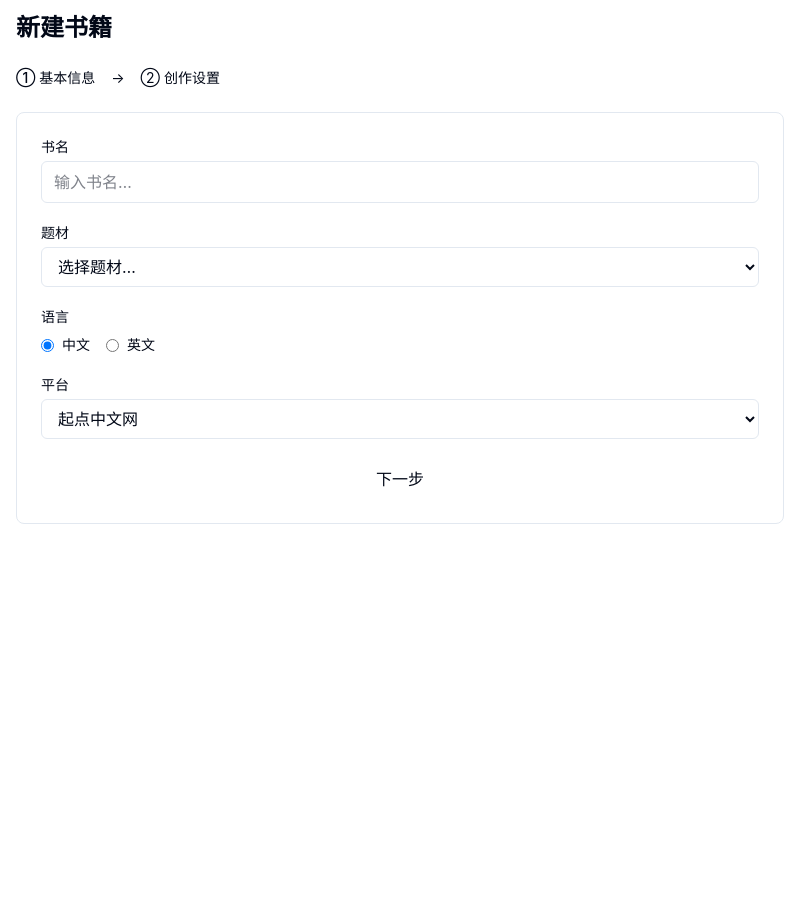
Scenario: BookCreate Page › returns to step 1 when clicking back
In the field with placeholder "输入书名…": (400, 182) 41,161 -> 759,203, type "测试小说"
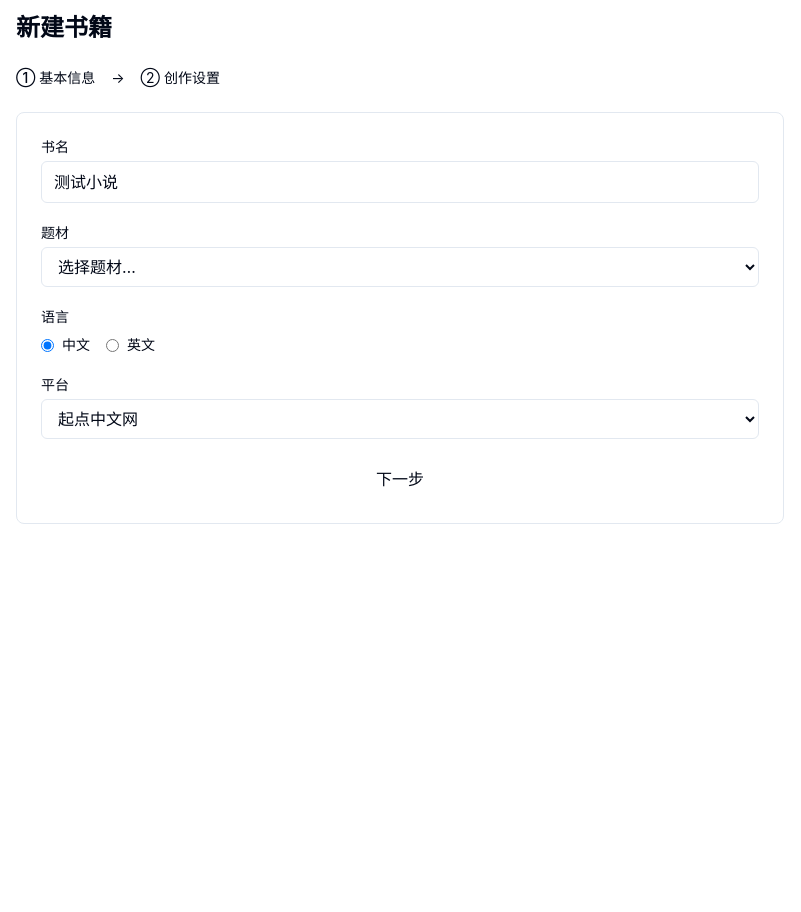
Select "科幻" in the dropdown labelled "题材": (400, 267) 41,247 -> 759,287
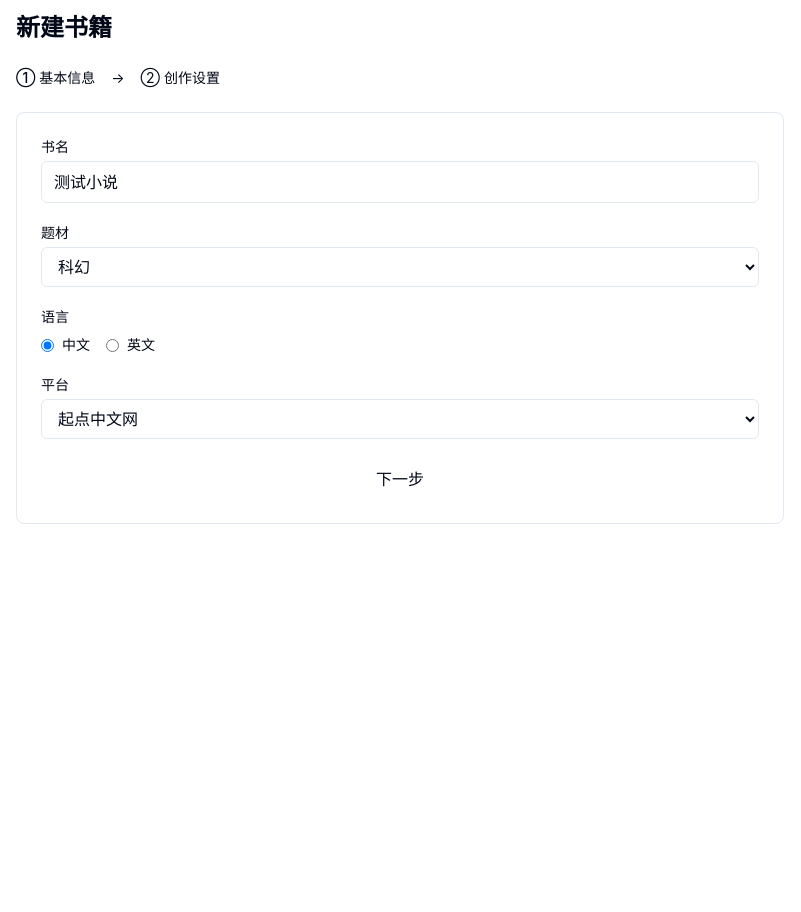
Click the button "下一步": (400, 479) 41,459 -> 759,499
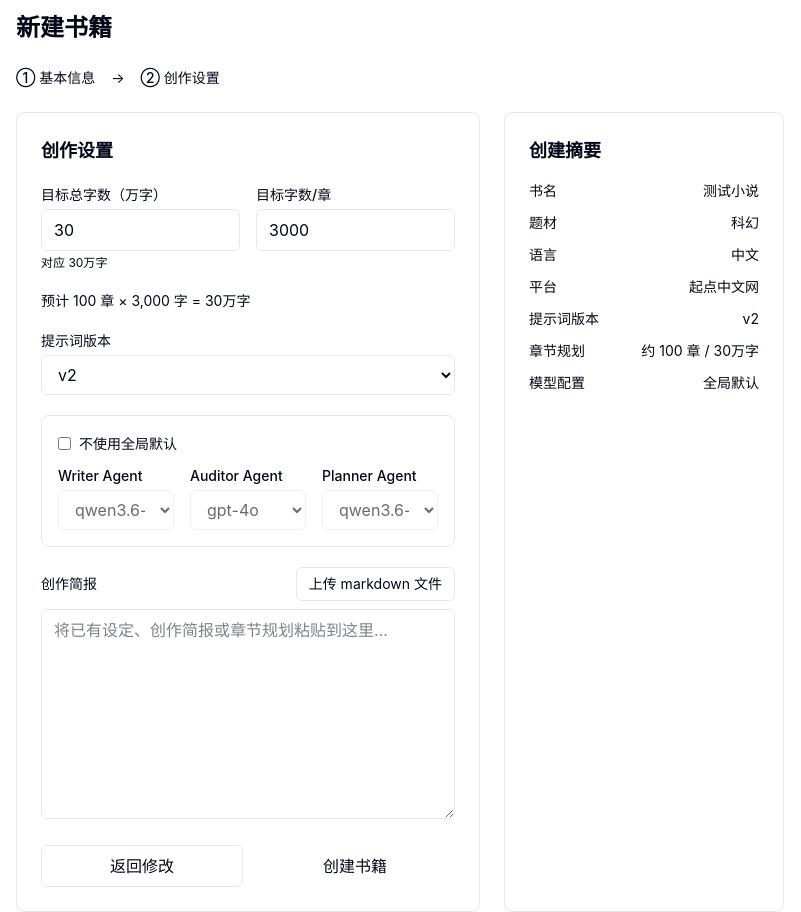
Click the button "返回修改": (142, 866) 41,844 -> 243,886
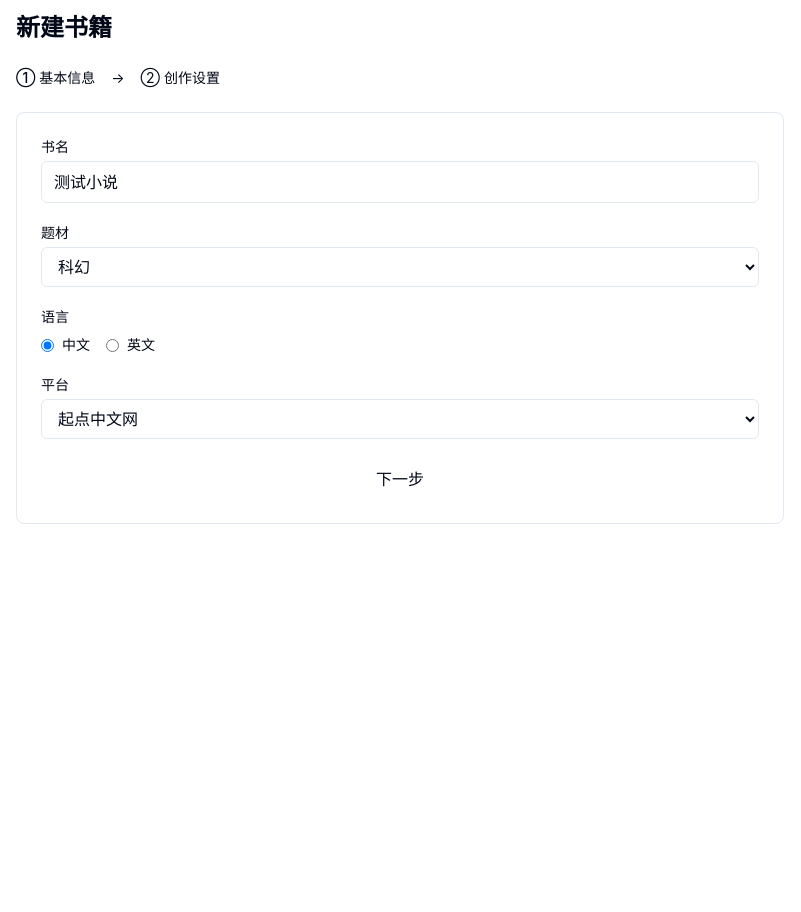
expect the field with placeholder "输入书名…" is shown: met, box 41,161 -> 759,203
